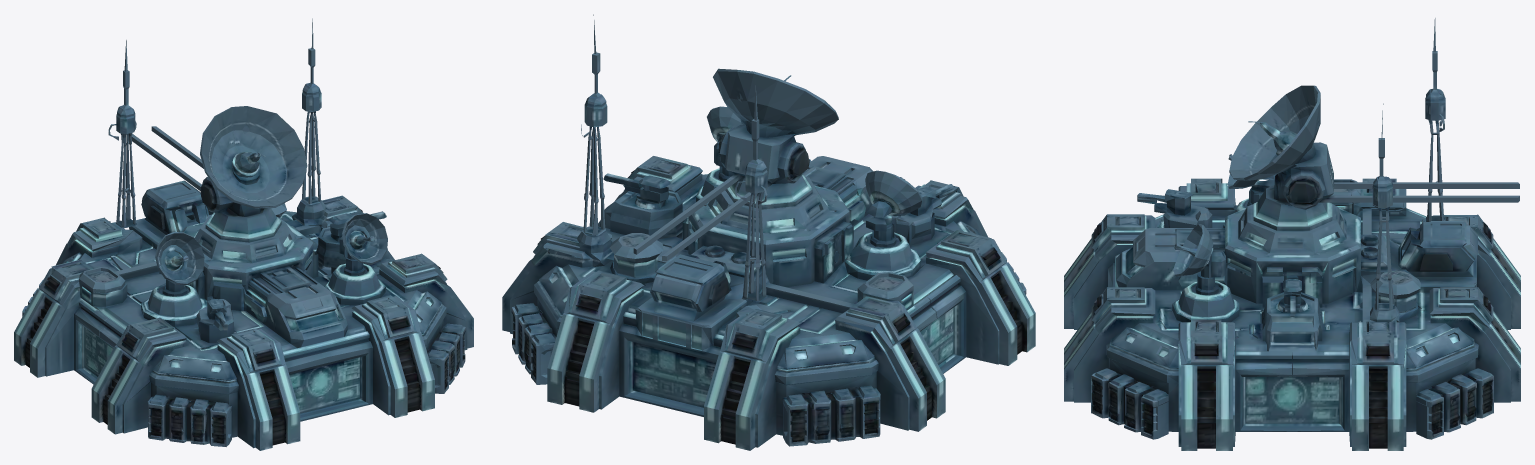
File: orbital_station_LOD0.glb
The picture shows the model from 3 angles, left to right: view 1: azimuth 30°, elevation 25°; view 2: azimuth 150°, elevation 25°; view 3: azimuth 270°, elevation 25°; orthographic projection. The views are drawn at different scales.
Visible parts, largest first — view 1: orbital_station_LOD0; view 2: orbital_station_LOD0; view 3: orbital_station_LOD0.
Part boxes in pixels (<box>): orbital_station_LOD0: <box>14,18,473,450</box>; orbital_station_LOD0: <box>502,14,1035,450</box>; orbital_station_LOD0: <box>1064,18,1520,450</box>.
Bounding box in the file's own units: 0.9993 × 0.7607 × 0.9993.
1 material, 1 textured.
